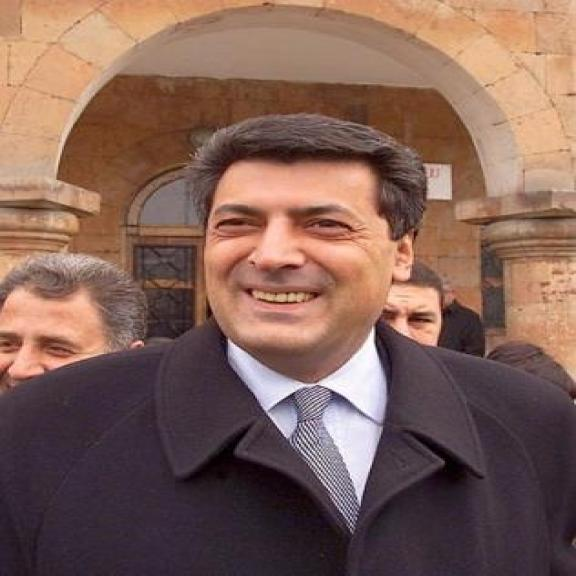face: (212, 163, 421, 358), (4, 285, 144, 398)
